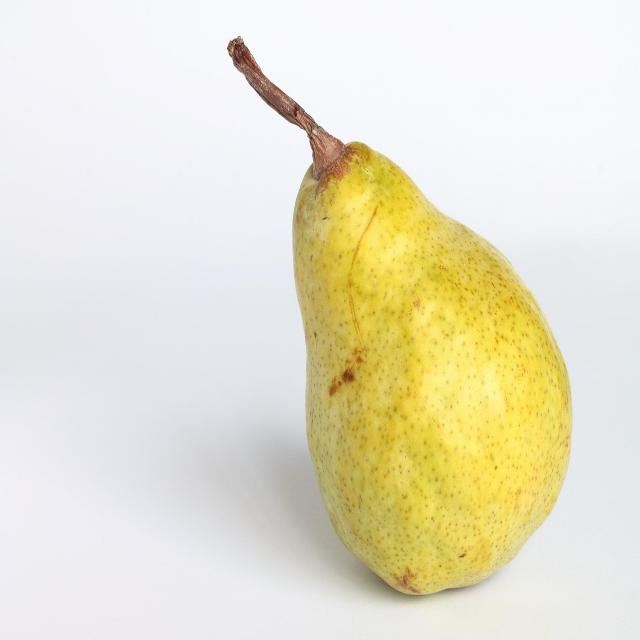pera: (217, 31, 602, 616)
